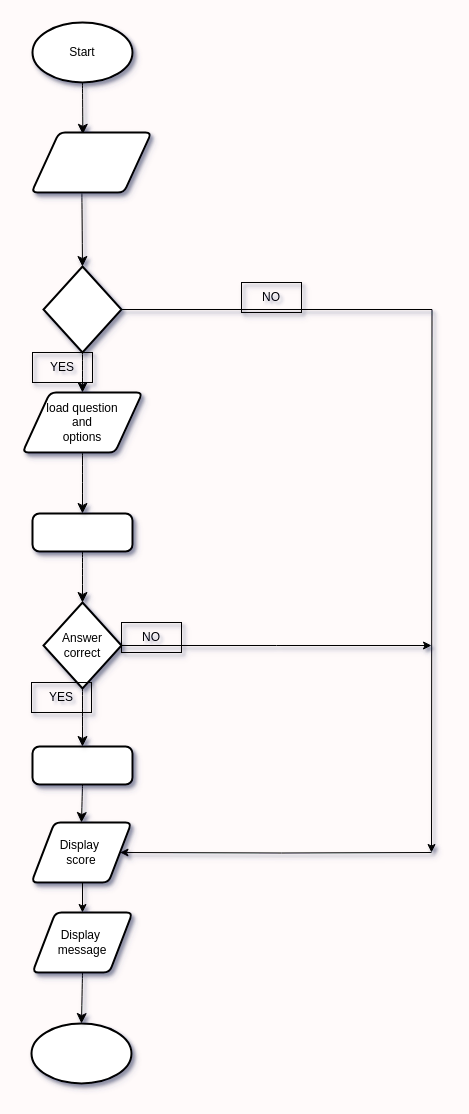
This 469x1114 diagram has some shape labels left out. Each missing label, with the centre of its shape:
Apply score: the point at 83,766
End: the point at 82,1054
Enter questions list: the point at 92,163
More Questions: the point at 83,310
users answer: the point at 83,533
